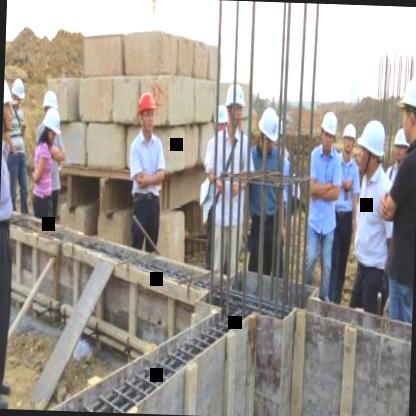helmet: (358, 119, 387, 174), (397, 74, 416, 145), (256, 104, 282, 152), (223, 83, 248, 130), (316, 110, 340, 154), (136, 89, 158, 135), (40, 108, 62, 151), (3, 75, 18, 136), (393, 122, 412, 164), (340, 121, 359, 157), (213, 103, 229, 137), (42, 92, 58, 126), (10, 78, 25, 109)
